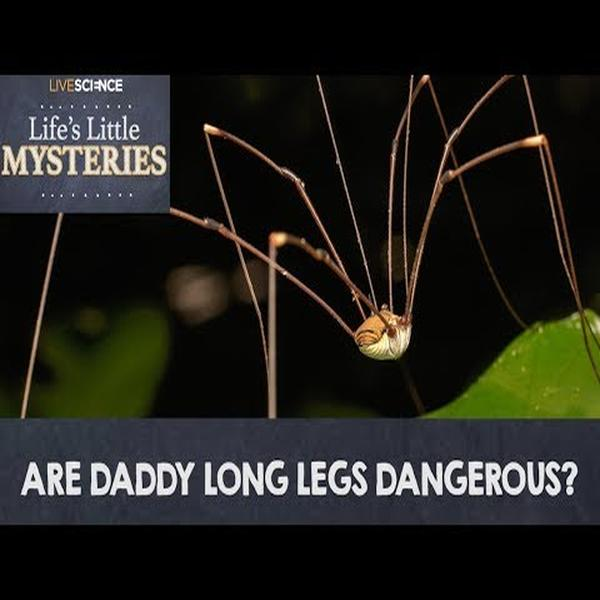Daddy Long Legs Spider: (169, 75, 599, 420)
